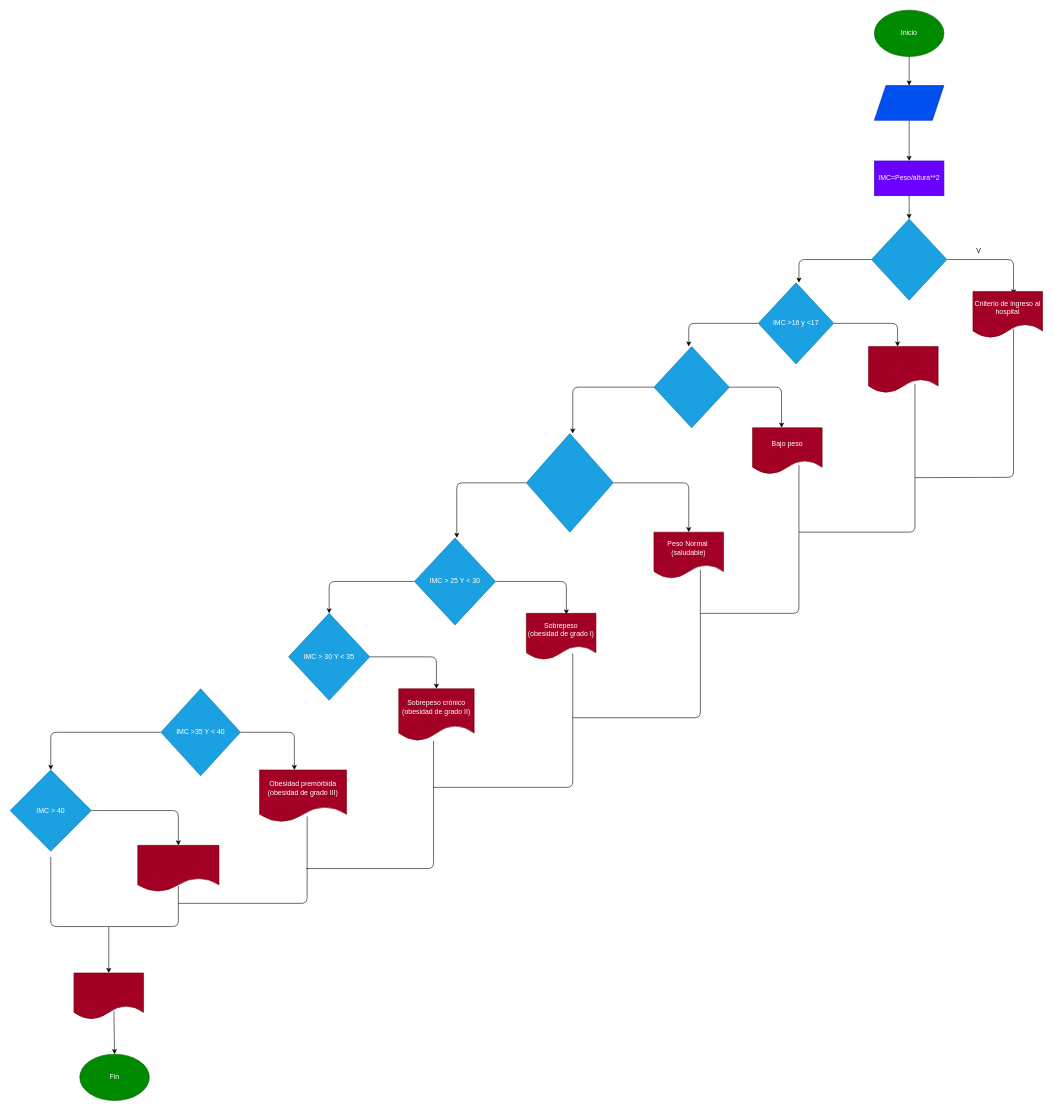
Image size: 1053x1111. Some labels were removed from this diagram. The box of each missing label's shape, as (x1, y1, x2, y2) in pixels:
Estado de Salud: (73, 972, 144, 1019)
IMC >17 y <18: (653, 346, 729, 428)
IMC<16: (871, 218, 947, 300)
IMC>18 y < 25: (526, 433, 613, 532)
Infrapeso: (868, 346, 938, 393)
Obesidad mórbida (obesidad de grado IV): (137, 845, 219, 892)
Peso, altura: (874, 85, 944, 120)
